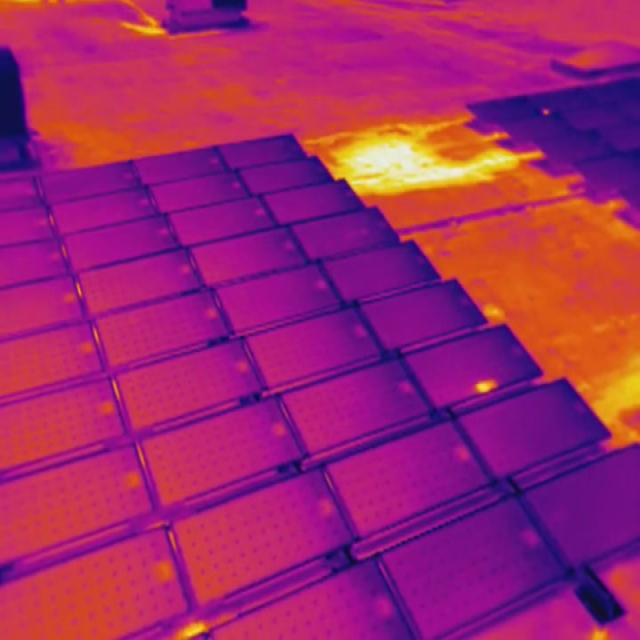Orange-Spots: (474, 379, 500, 393), (542, 108, 549, 115)
